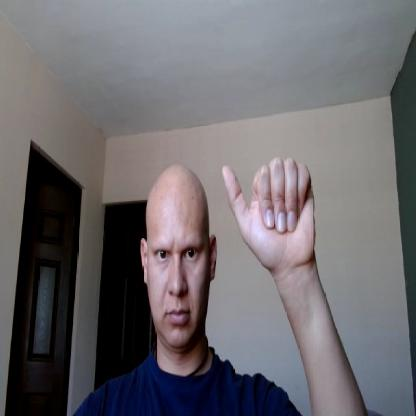A: (221, 157, 318, 268)
